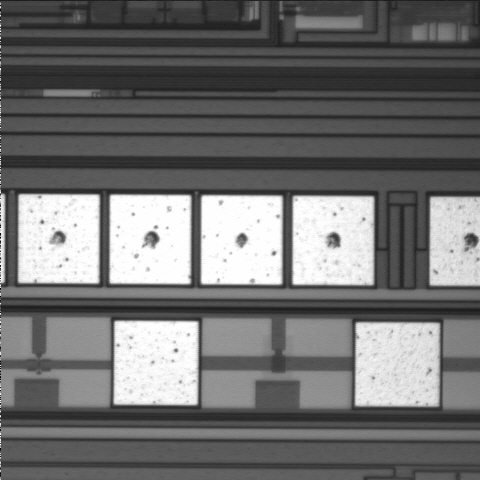pad: (201, 195, 283, 285), (18, 194, 100, 283), (110, 195, 191, 284), (293, 196, 374, 285), (114, 321, 198, 405), (355, 323, 440, 406)
